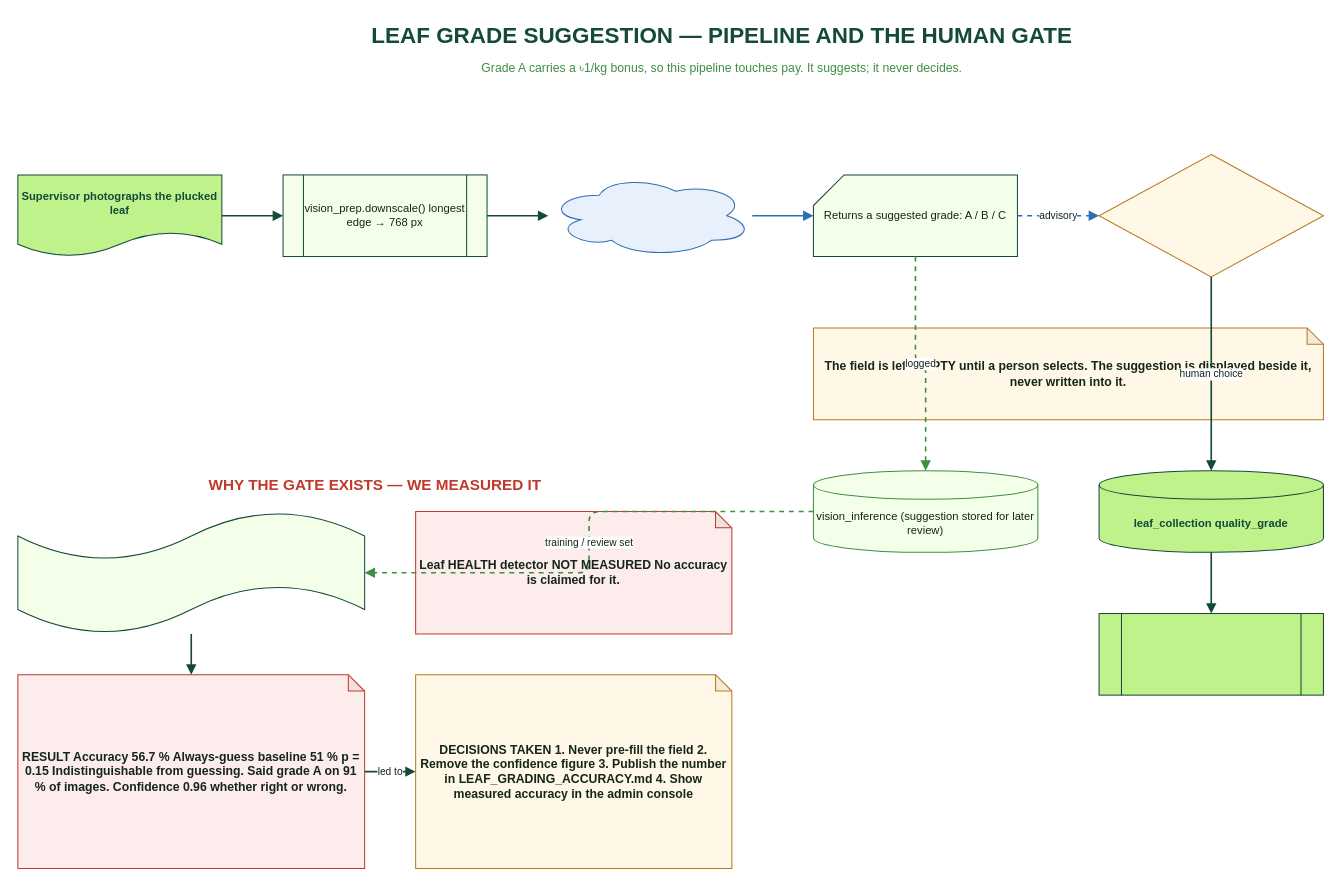
This 1341x886 diagram has some shape labels left out. The centre of each missing label's shape, as x and y in pixels:
Evaluation 97 labelled Sylhet photographs eval_leaf_grade.py: the point at 191,572
SUPERVISOR CHOOSES the grade: the point at 1210,215
Vision model (Gemini — Ollama here is text-only): the point at 649,215
Wage: grade-A kilos × ৳1/kg bonus: the point at 1210,654
